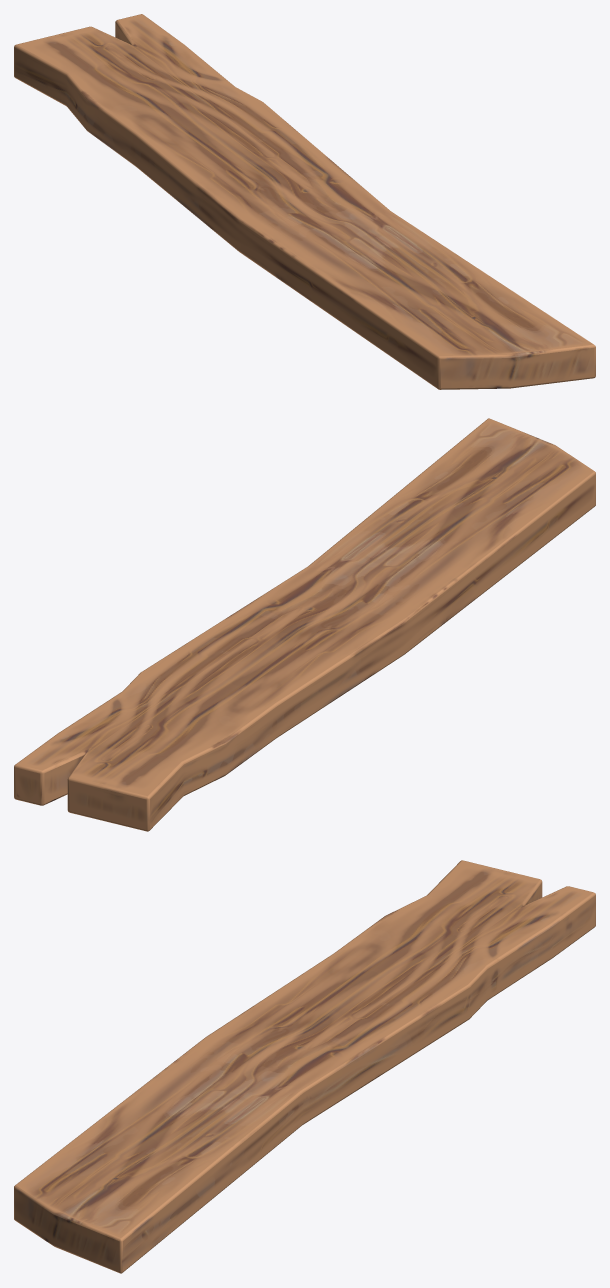
The model's file is Tabua_01.fbx.
The picture shows the model from 3 angles, top to bottom: view 1: azimuth 30°, elevation 25°; view 2: azimuth 150°, elevation 25°; view 3: azimuth 330°, elevation 25°; orthographic projection. The views are drawn at different scales.
Visible parts, largest first — view 1: Tabua_01; view 2: Tabua_01; view 3: Tabua_01.
Boxes of the visible parts, x1=… form: Tabua_01: x1=14, y1=14, x2=595, y2=389; Tabua_01: x1=14, y1=418, x2=595, y2=831; Tabua_01: x1=14, y1=860, x2=595, y2=1273.
Bounding box in the file's own units: 32.96 × 7.58 × 186.
